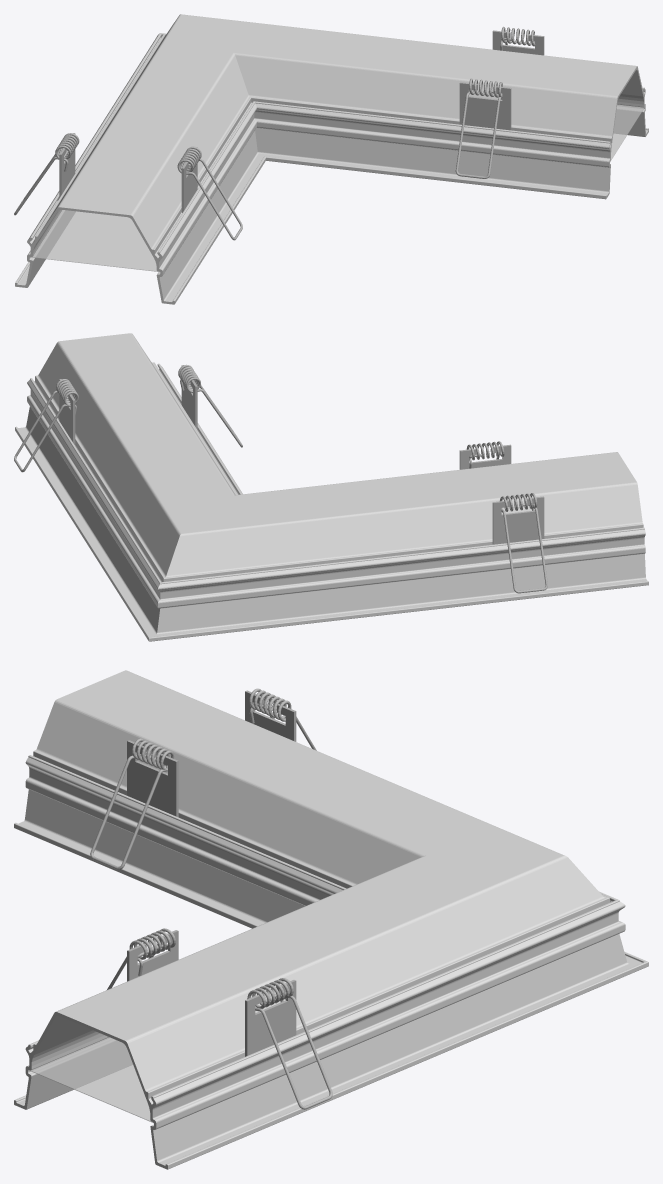
File: SPE60000.glb
The picture shows the model from 3 angles, top to bottom: view 1: azimuth 30°, elevation 25°; view 2: azimuth 150°, elevation 25°; view 3: azimuth 270°, elevation 25°; orthographic projection. The views are drawn at different scales.
Parts seen in each view (by area): view 1: Geom3D (×12); view 2: Geom3D (×10); view 3: Geom3D (×11).
Boxes of the visible parts, x1,y1,x2,y2 form: Geom3D (×12): (14,14,648,304); Geom3D (×10): (14,333,648,641); Geom3D (×11): (14,670,648,1169).
Size of what is drawn, in the model's own units: 0.3536 by 0.0514 by 0.2333.
3 materials, 1 textured.
